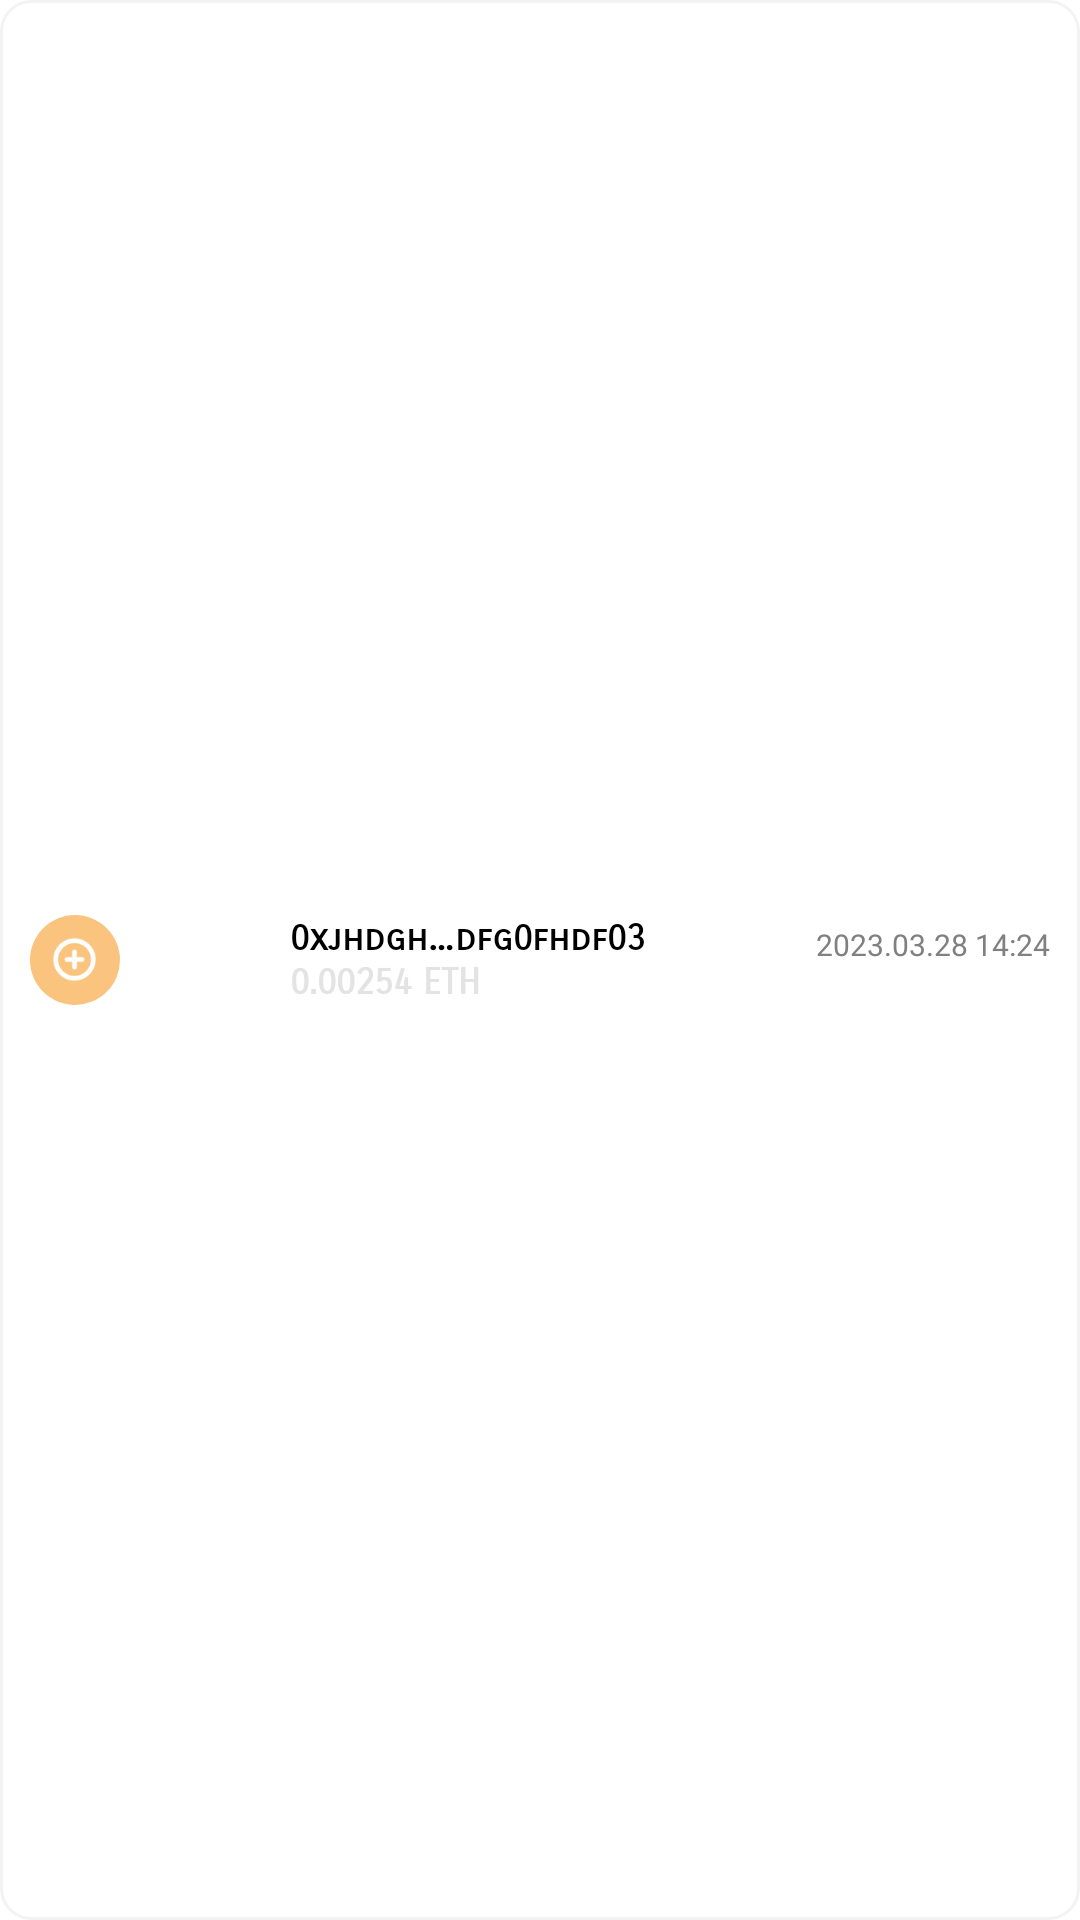

Icons on this 1080px x 1920px Android screen, each with its box as (x1, y1, x2, y2):
plus circle: (53, 938, 96, 981)
